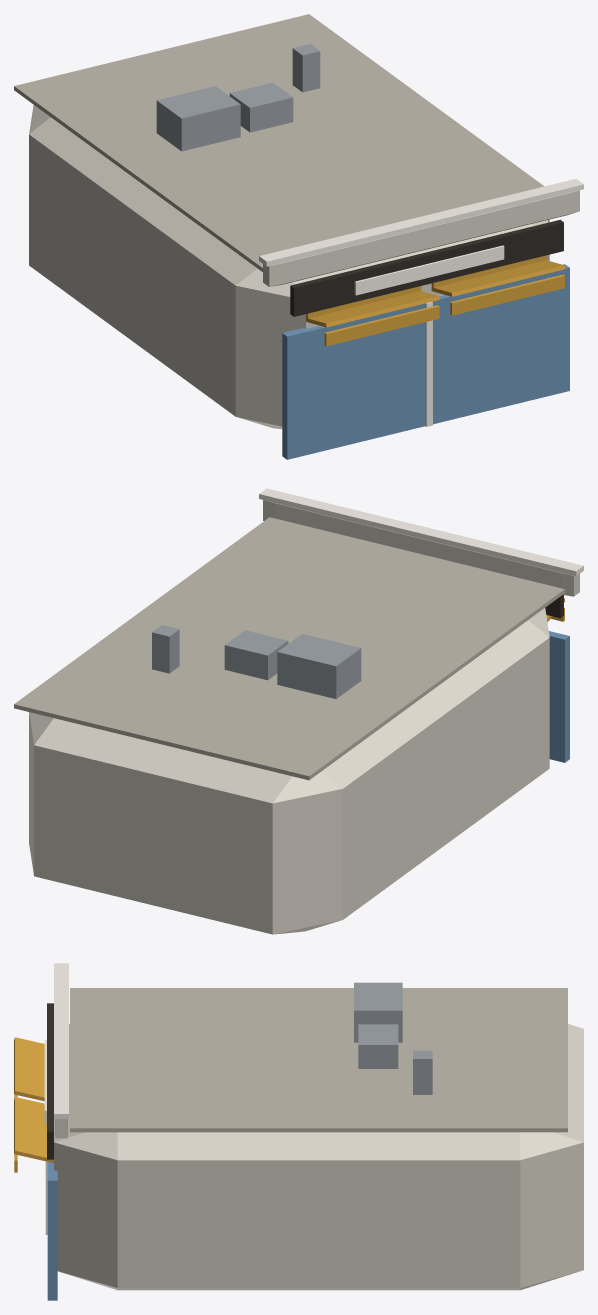
The model's file is shop_w8_f1_solid.glb.
3 views of the same model, one above another, from view 1: azimuth 30°, elevation 25°; view 2: azimuth 150°, elevation 25°; view 3: azimuth 270°, elevation 25° (orthographic). The views are drawn at different scales.
Parts seen in each view (by area): view 1: roofslab, walls, shopglass, parapet, fascia, hvac, pcap, hvac2, fasciatx, valance, awn, valance.001 (+5 smaller); view 2: walls, roofslab, parapet, hvac, pcap, shopglass, hvac2, pipe; view 3: walls, roofslab, pcap, hvac, awn.001, hvac2, awn, shopglass, fascia, pipe.
Boxes of the visible parts, x1,y1,x2,y2 form: roofslab: (14, 14, 544, 271); walls: (29, 105, 549, 428); shopglass: (282, 264, 569, 459); parapet: (263, 190, 579, 286); fascia: (290, 219, 563, 316); hvac: (156, 86, 240, 151); pcap: (259, 179, 583, 266); hvac2: (229, 82, 293, 132); fasciatx: (354, 245, 504, 295); valance: (324, 305, 439, 346); awn: (306, 291, 439, 327); valance.001: (450, 274, 564, 315); walls: (29, 608, 549, 934); roofslab: (14, 517, 564, 780); parapet: (263, 500, 579, 596); hvac: (277, 634, 361, 698); pcap: (259, 488, 583, 576); shopglass: (549, 631, 569, 762); hvac2: (224, 630, 288, 680); pipe: (152, 625, 179, 673); walls: (54, 1024, 583, 1290); roofslab: (70, 988, 567, 1132); pcap: (54, 963, 68, 1118); hvac: (354, 982, 402, 1042); awn.001: (14, 1097, 53, 1162); hvac2: (358, 1024, 398, 1068); awn: (14, 1037, 44, 1101); shopglass: (47, 1162, 57, 1300); fascia: (47, 1003, 53, 1159); pipe: (413, 1050, 432, 1094).
Bounding box in the file's own units: 8.08 × 5.3 × 12.91.
